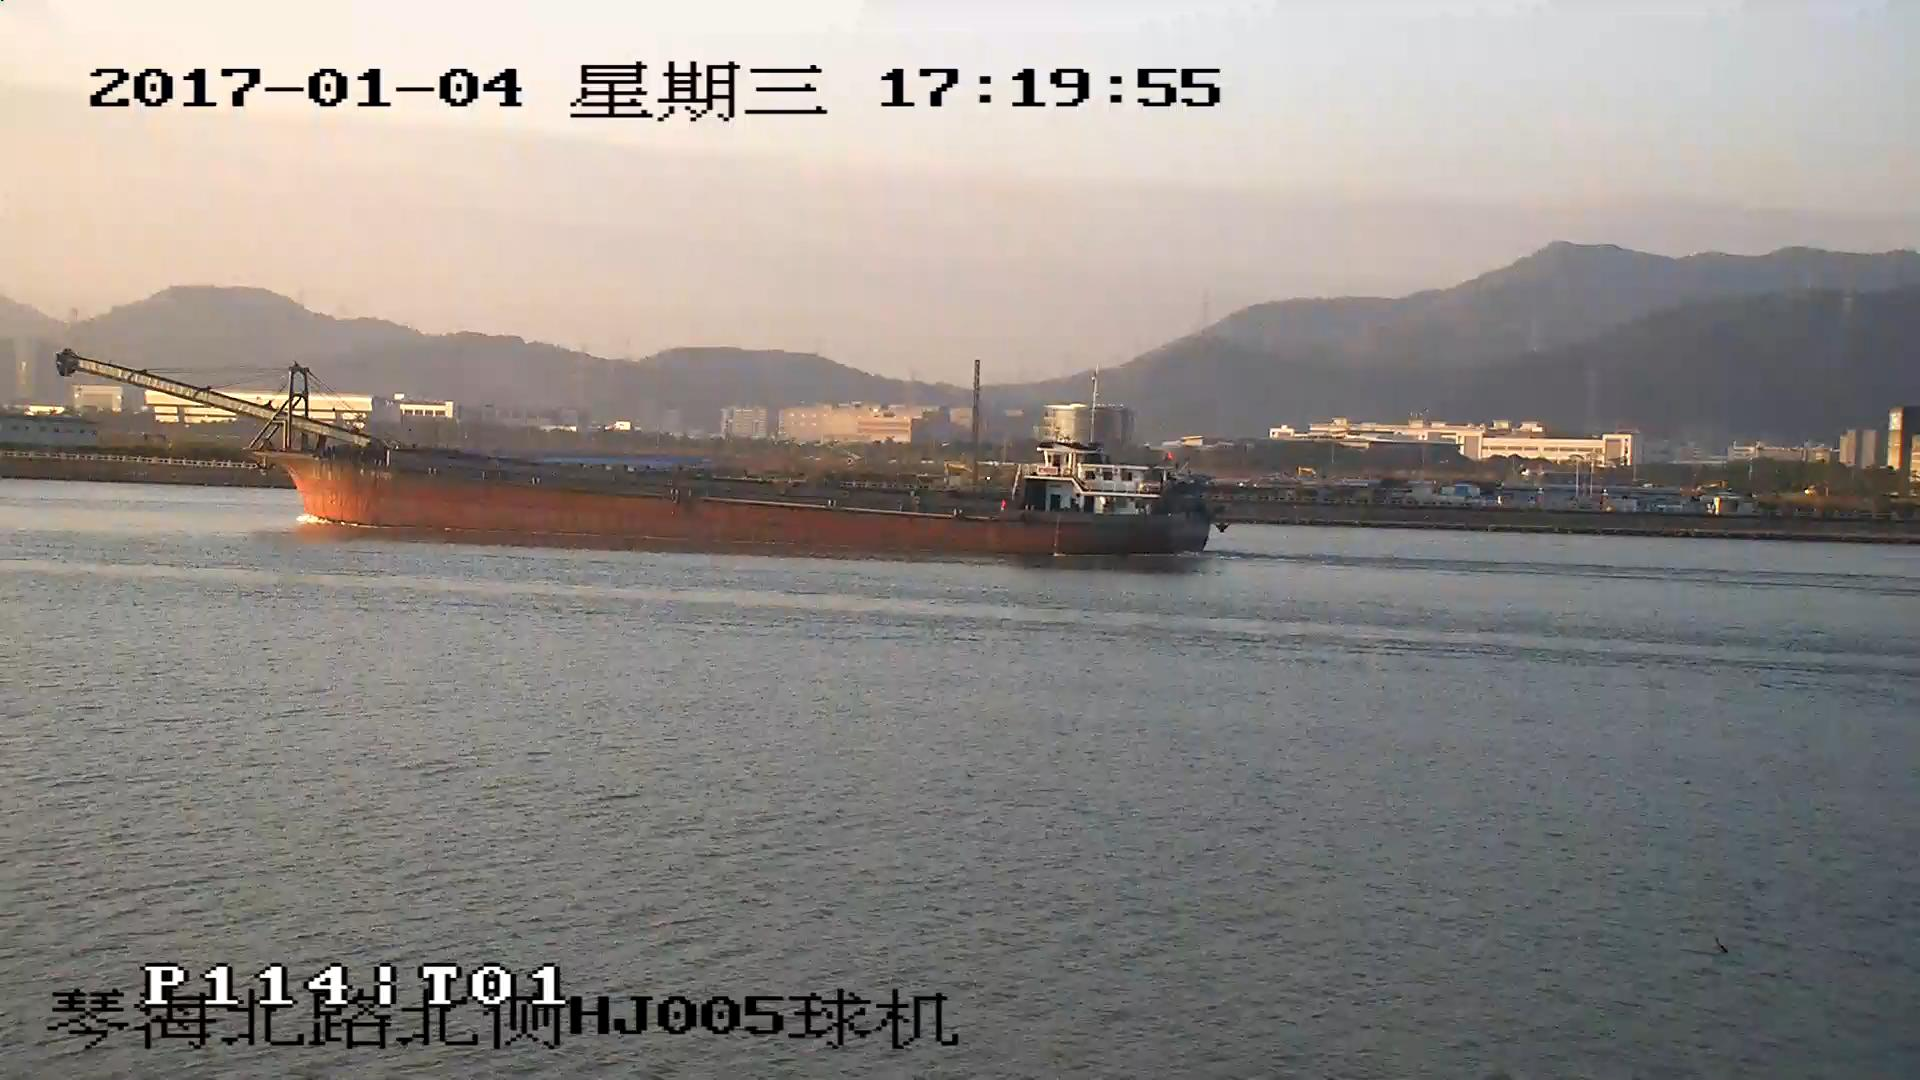bulk cargo carrier: (59, 353, 1229, 553)
